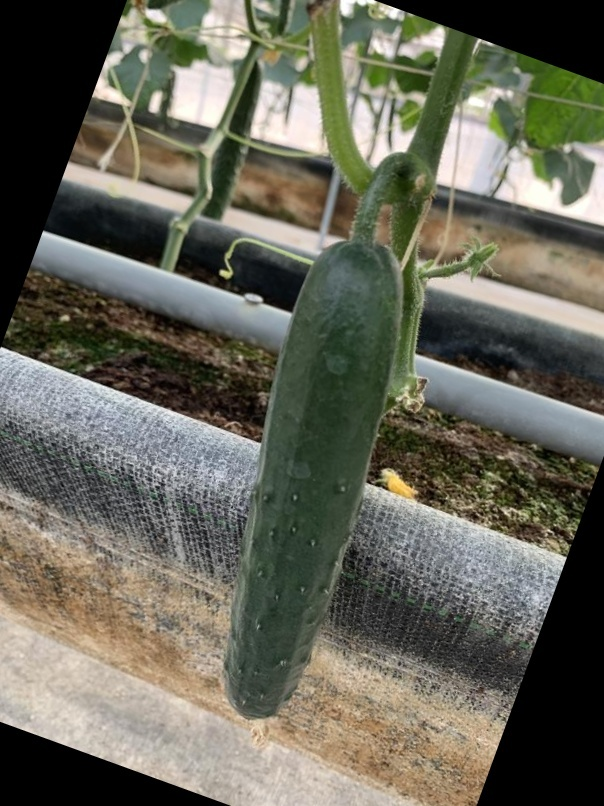mature: (223, 243, 409, 746)
